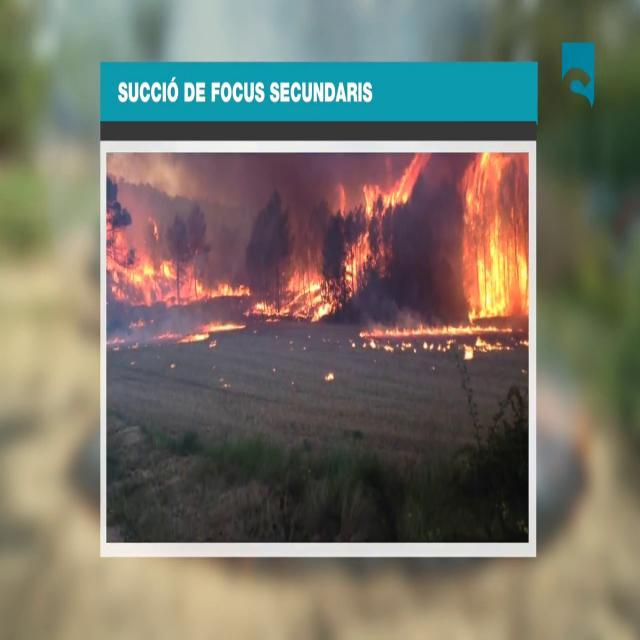Fire: (454, 150, 529, 338), (337, 154, 422, 298), (249, 248, 343, 329), (112, 252, 205, 322), (360, 317, 460, 350), (199, 271, 251, 299)
